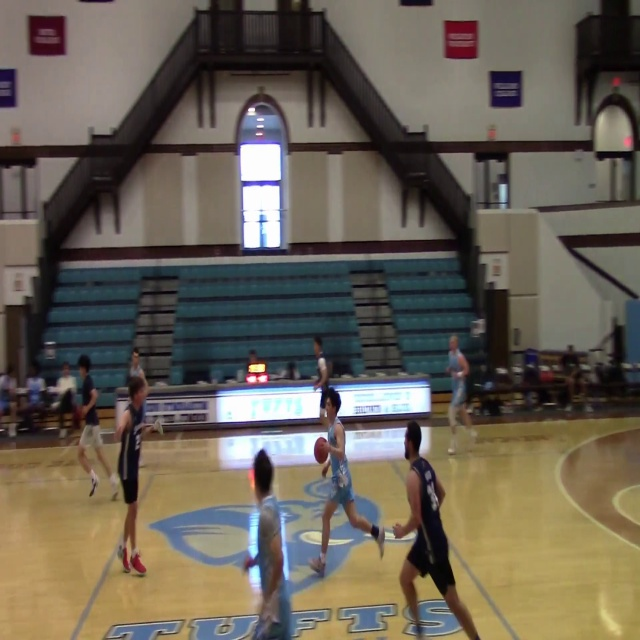Basketball: (314, 437, 329, 464)
